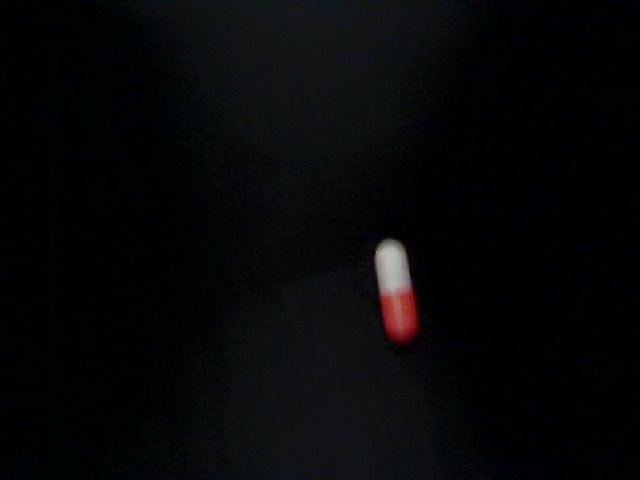YHLJ: (403, 65, 529, 132)
